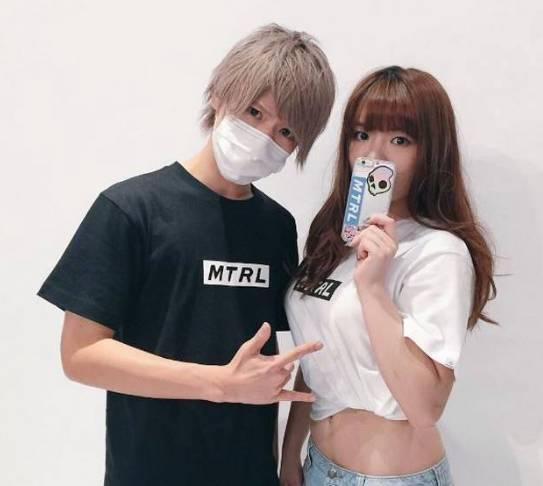face: (346, 106, 416, 201)
face_mask: (214, 96, 299, 184)
